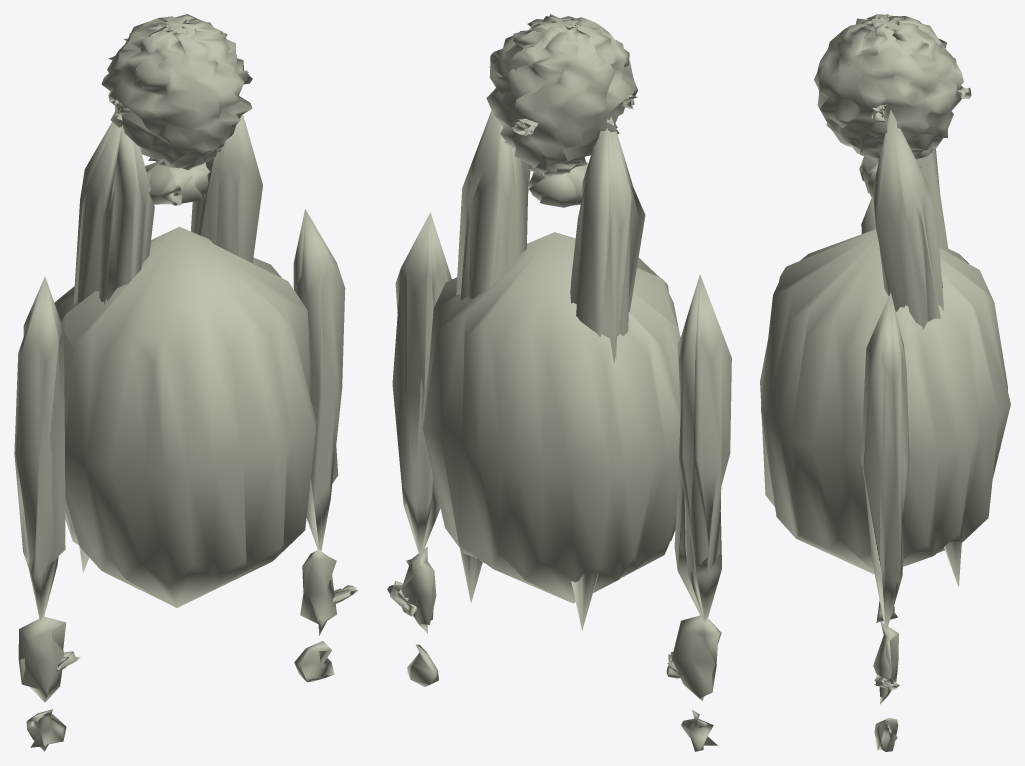
The model's file is zombie_bloater.glb.
The picture shows the model from 3 angles, left to right: view 1: azimuth 30°, elevation 25°; view 2: azimuth 150°, elevation 25°; view 3: azimuth 270°, elevation 25°; orthographic projection. The views are drawn at different scales.
Visible parts, largest first — view 1: zombie_bloater; view 2: zombie_bloater; view 3: zombie_bloater.
Boxes of the visible parts, x1,y1,x2,y2 form: zombie_bloater: (14, 14, 357, 751); zombie_bloater: (387, 14, 731, 751); zombie_bloater: (760, 14, 1010, 751).
Bounding box in the file's own units: 0.5301 × 1.03 × 0.3533.
